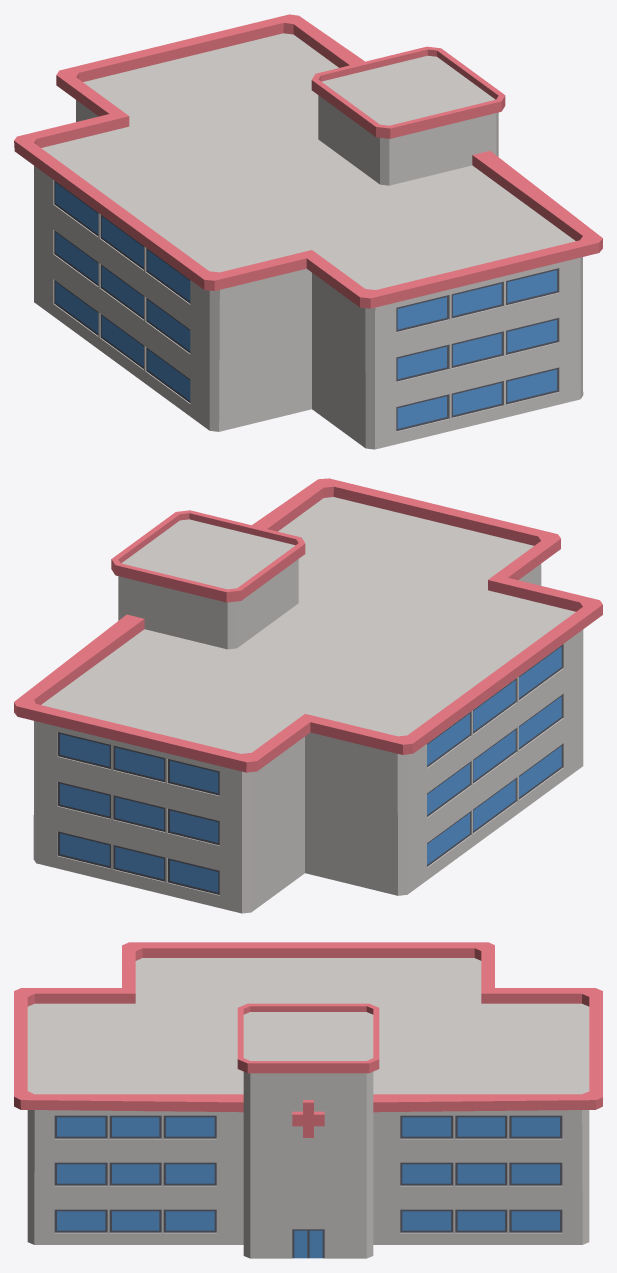
Rendered from hospital.fbx.
3 renders of one model, top to bottom at view 1: azimuth 30°, elevation 25°; view 2: azimuth 150°, elevation 25°; view 3: azimuth 270°, elevation 25°, orthographic. The views are drawn at different scales.
Parts seen in each view (by area): view 1: Hospital; view 2: Hospital; view 3: Hospital.
Part boxes in pixels (<box>): Hospital: <box>14,14,602,449</box>; Hospital: <box>14,478,602,913</box>; Hospital: <box>14,942,602,1258</box>.
Bounding box in the file's own units: 18436 × 10100 × 27273.
